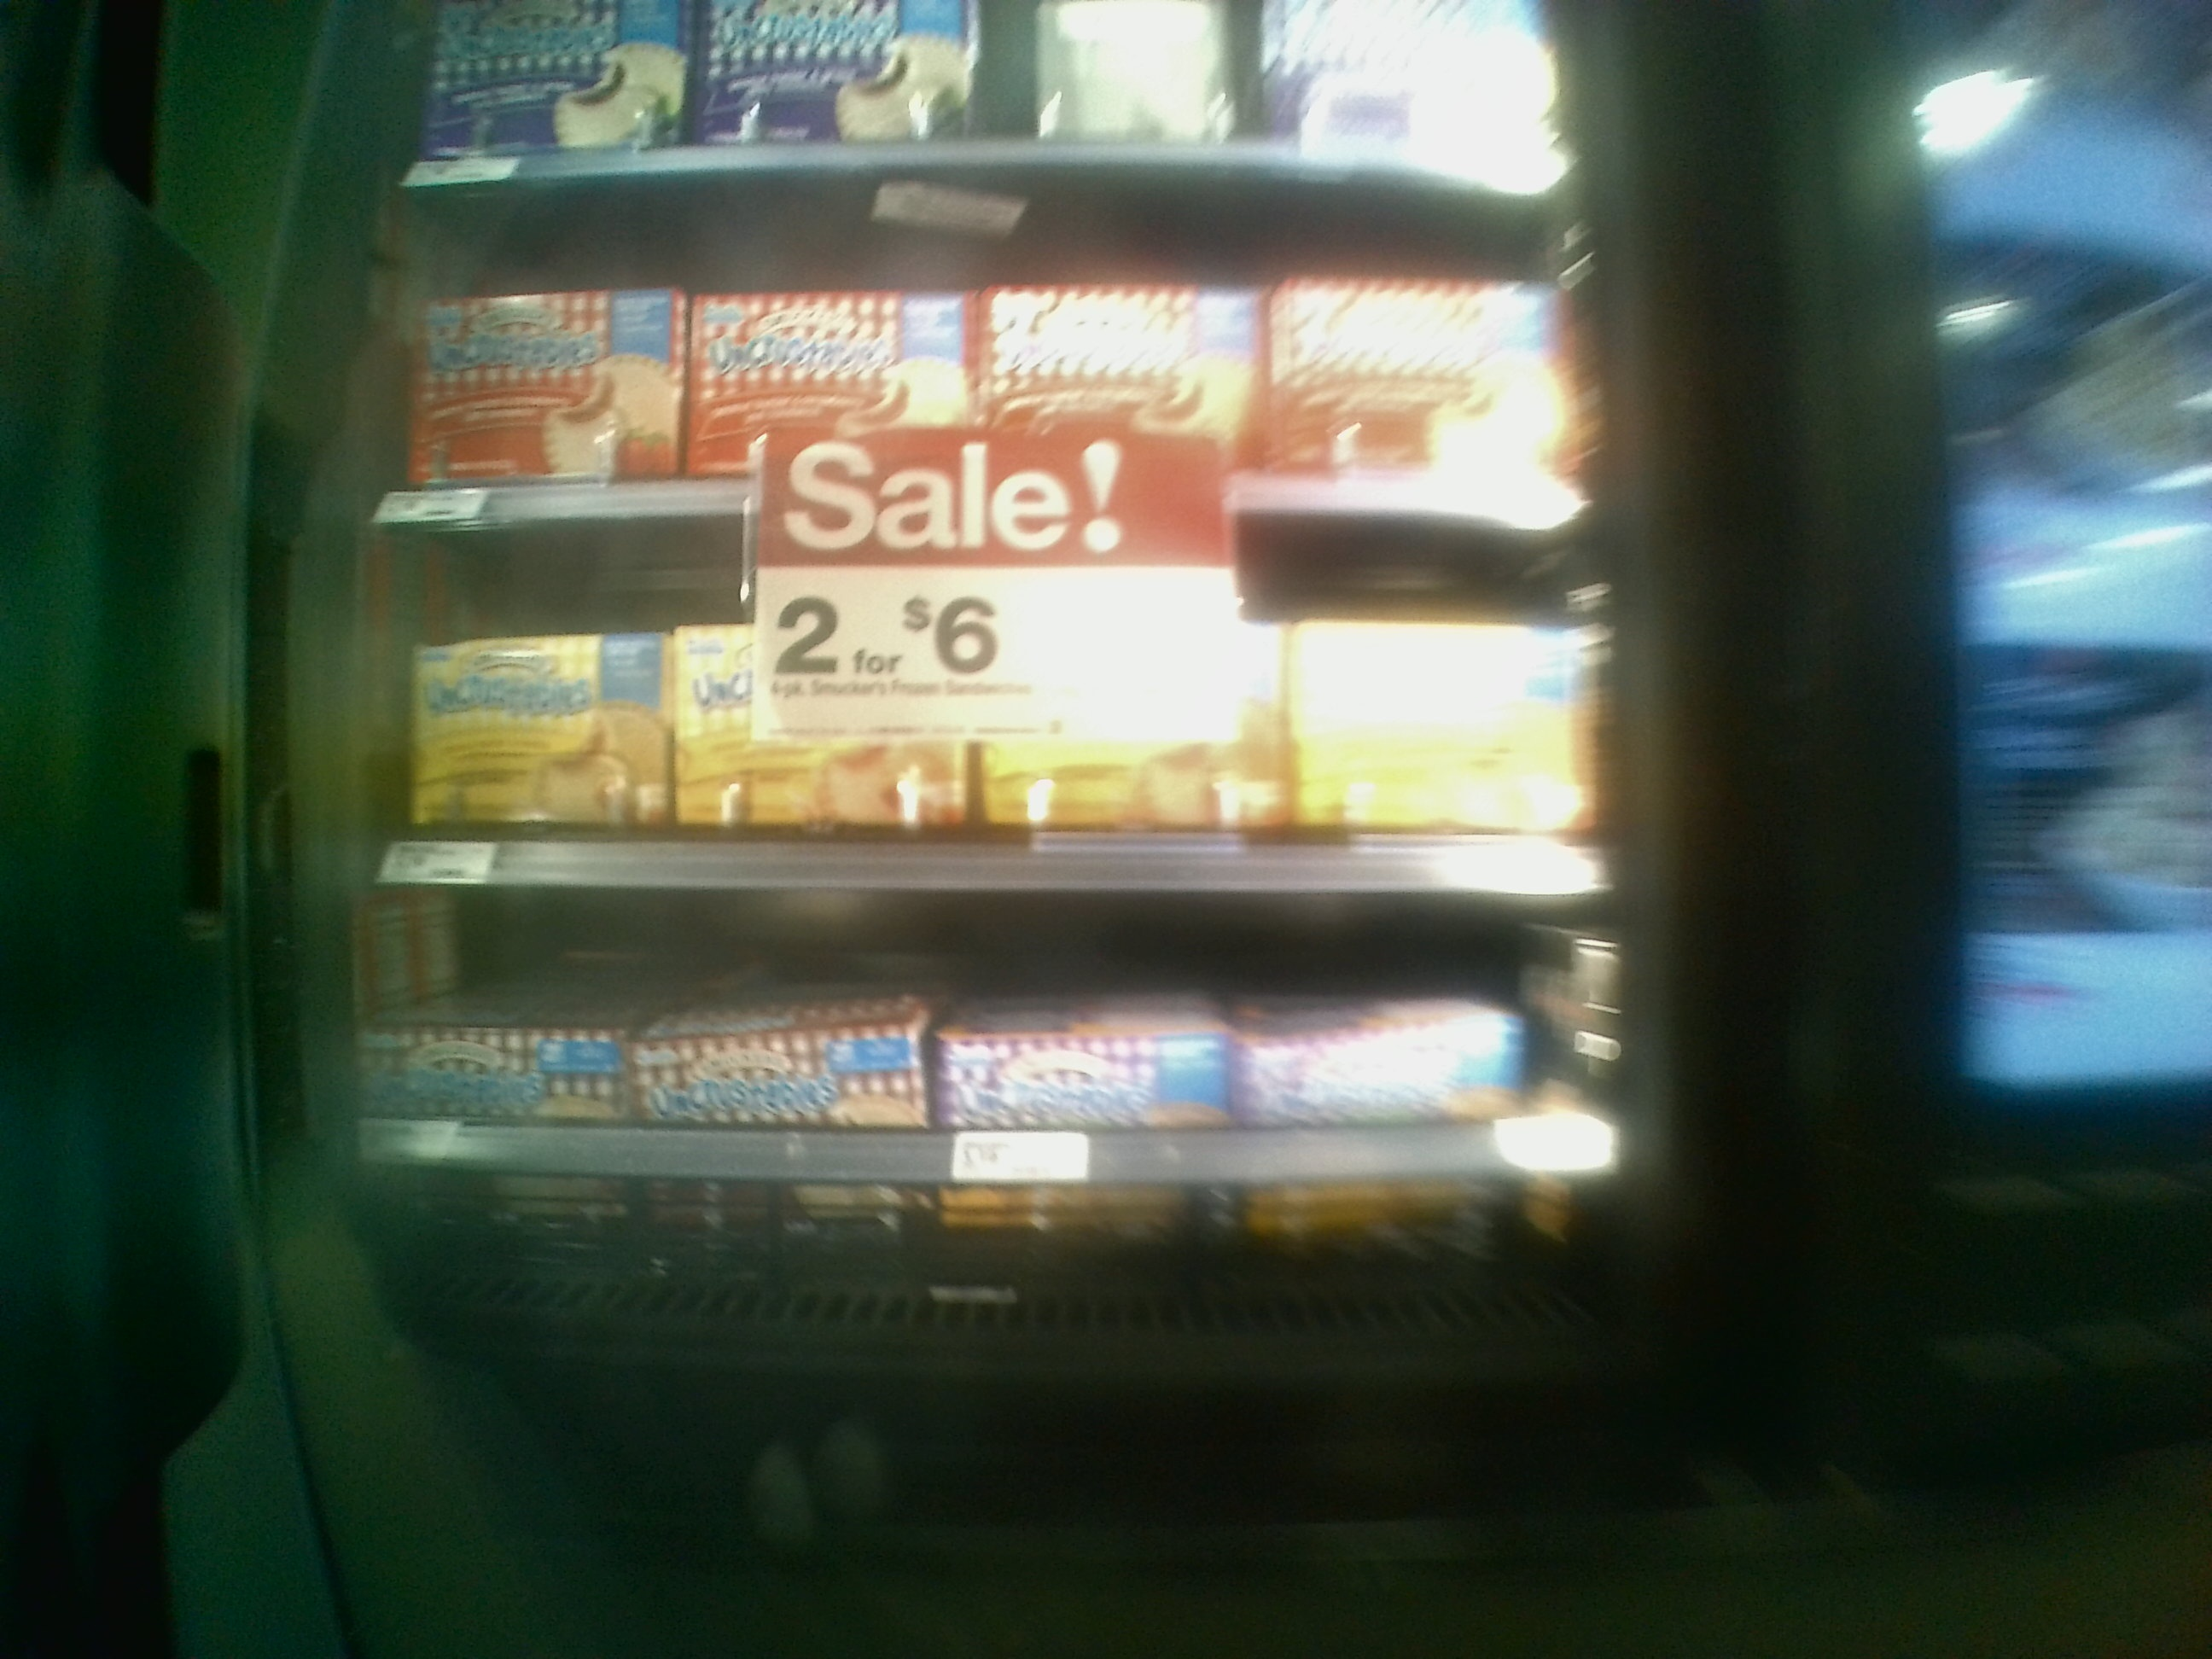shelf: (338, 840, 1615, 1324), (359, 497, 1599, 889), (354, 160, 1627, 535)
